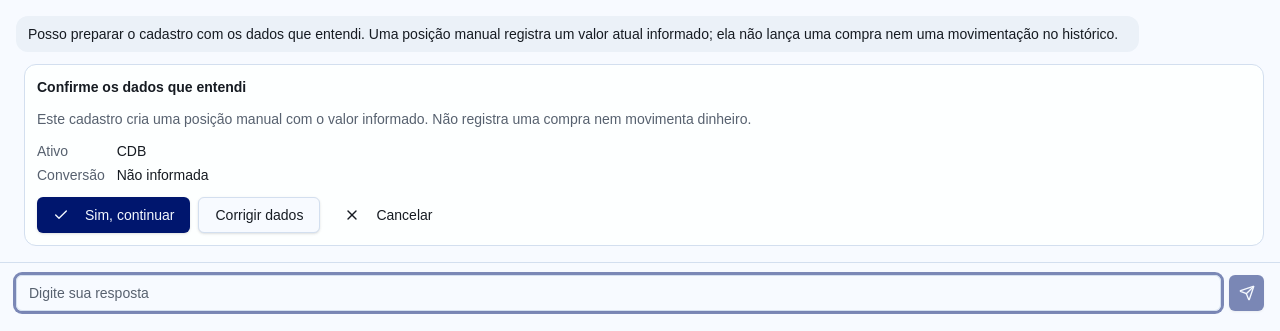
PortfolioChatManualPosition › asks for a missing class when the inferred request already has a product
Click the button "Sim, continuar".
click(114, 215)  # box [37, 197, 190, 233]
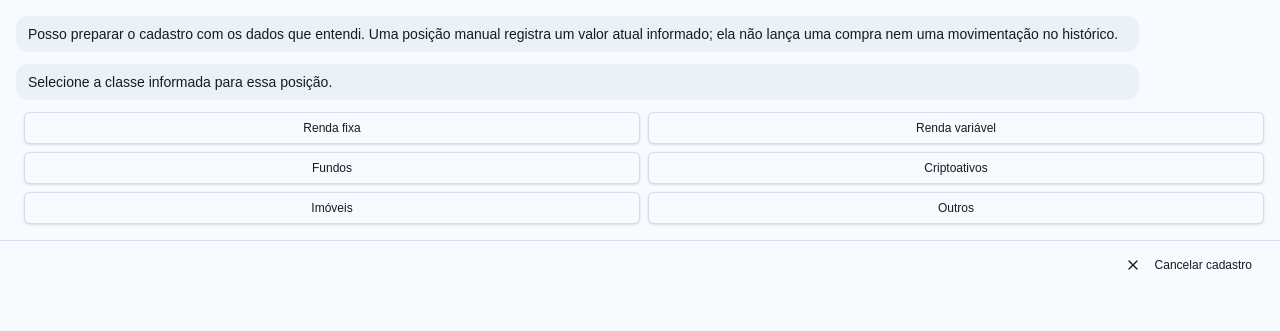
Expected: the text "Selecione a classe informada para essa posição." is shown, [16, 64, 1139, 100]
